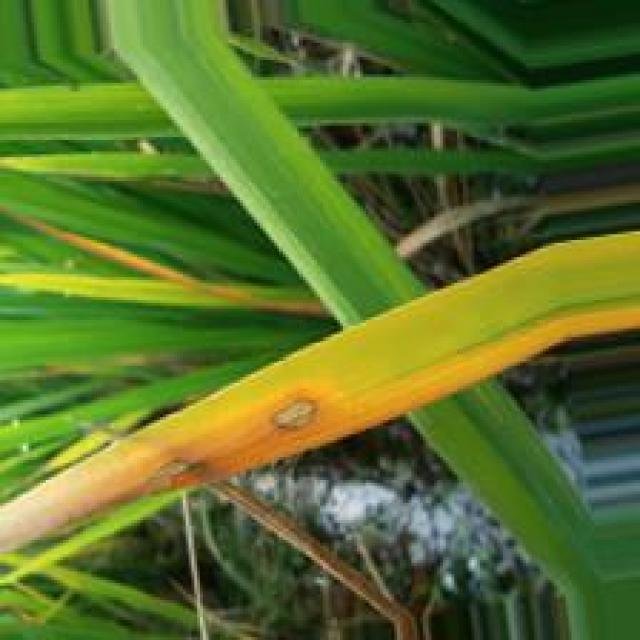Rice Tungro: (28, 452, 223, 534), (259, 396, 325, 439)
